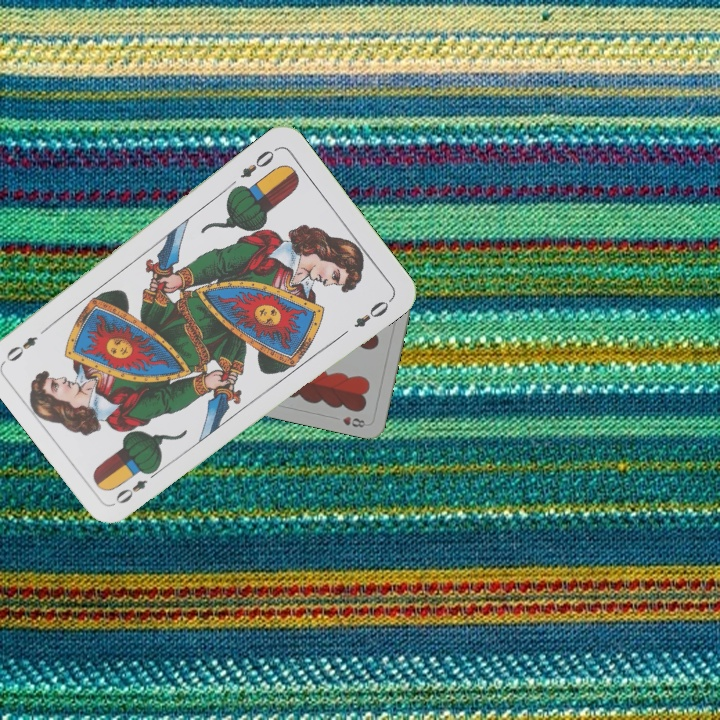EO: (111, 465, 162, 507), (236, 143, 280, 181)
